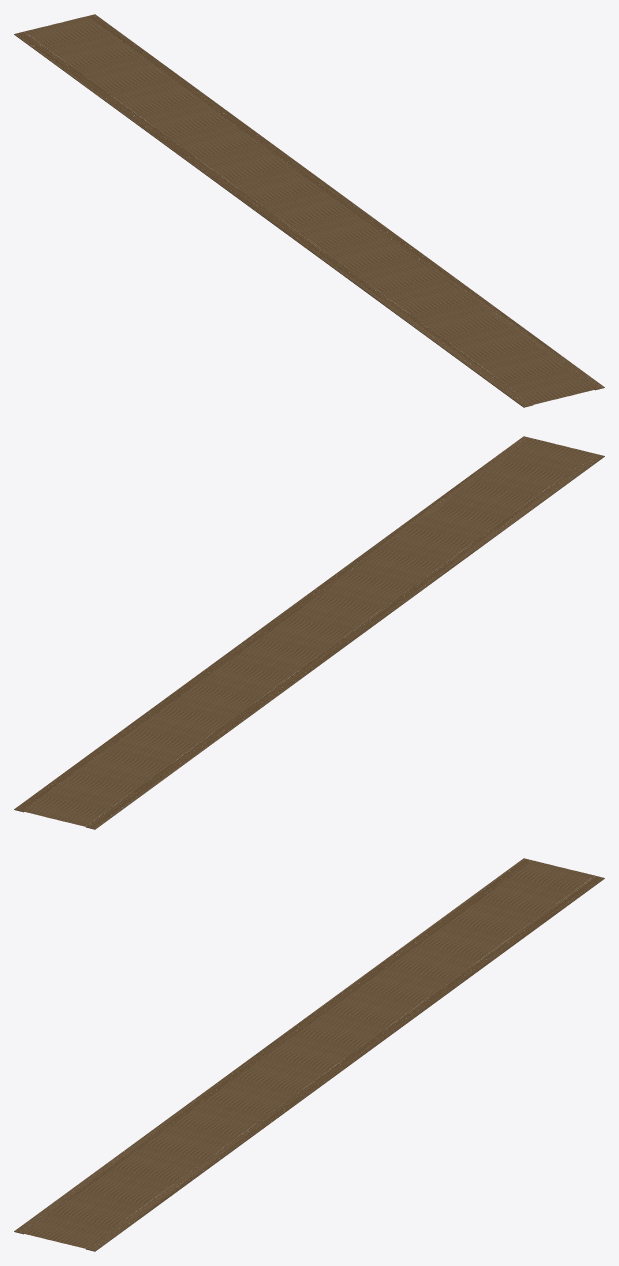
Rendered from Road_Dirt_100m_LOD0.fbx.
The picture shows the model from 3 angles, top to bottom: view 1: azimuth 30°, elevation 25°; view 2: azimuth 150°, elevation 25°; view 3: azimuth 330°, elevation 25°; orthographic projection.
Parts seen in each view (by area): view 1: Road_Dirt_100m_OPT_Merged_ENV_Road_Dirt_OPT_DATA; view 2: Road_Dirt_100m_OPT_Merged_ENV_Road_Dirt_OPT_DATA; view 3: Road_Dirt_100m_OPT_Merged_ENV_Road_Dirt_OPT_DATA.
Boxes of the visible parts, left/top/right/bottom form: Road_Dirt_100m_OPT_Merged_ENV_Road_Dirt_OPT_DATA: left=14, top=14, right=604, bottom=407; Road_Dirt_100m_OPT_Merged_ENV_Road_Dirt_OPT_DATA: left=14, top=436, right=604, bottom=829; Road_Dirt_100m_OPT_Merged_ENV_Road_Dirt_OPT_DATA: left=14, top=858, right=604, bottom=1251.
Size of the model in its own units: 920 by 7.5 by 10000.
Materials: 1 (1 with a texture image).
